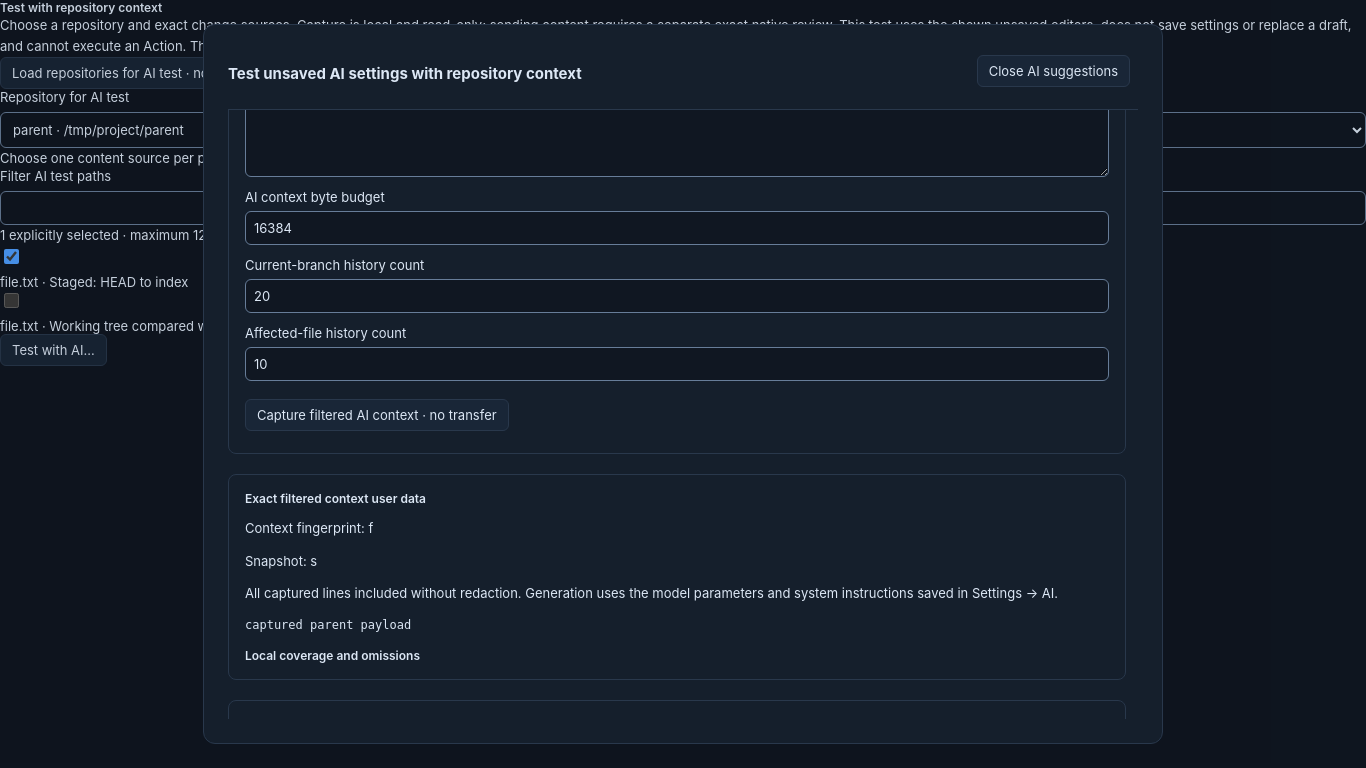
Test: requires explicit path sources, clears stale previews on repository change and retains choices on refresh failure
Earlier steps of the test are not shown.
(page scrolled)
Click the button "Close AI suggestions": (1053, 71) [977,55,1130,87]
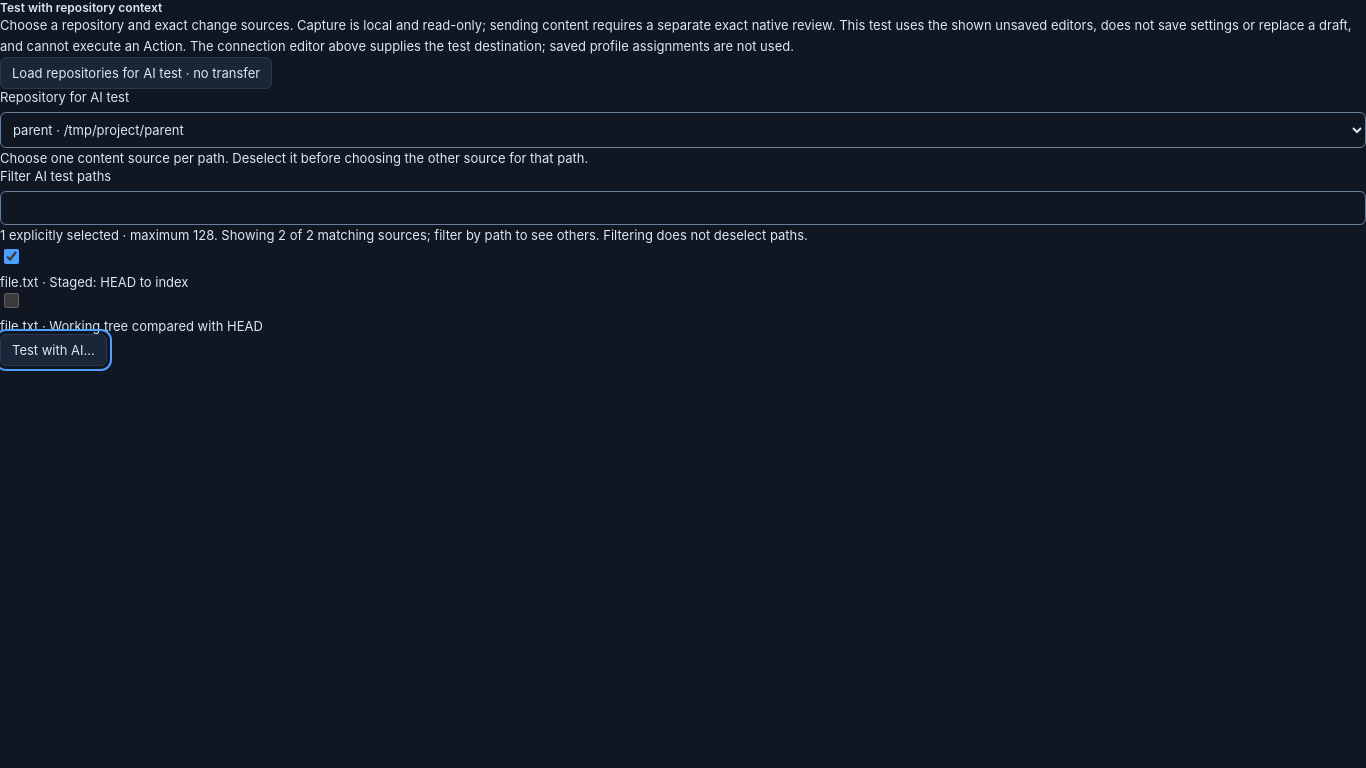
Select "child · /tmp/project/child" in the dropdown labelled "Repository for AI test": (683, 130) [0,112,1365,148]
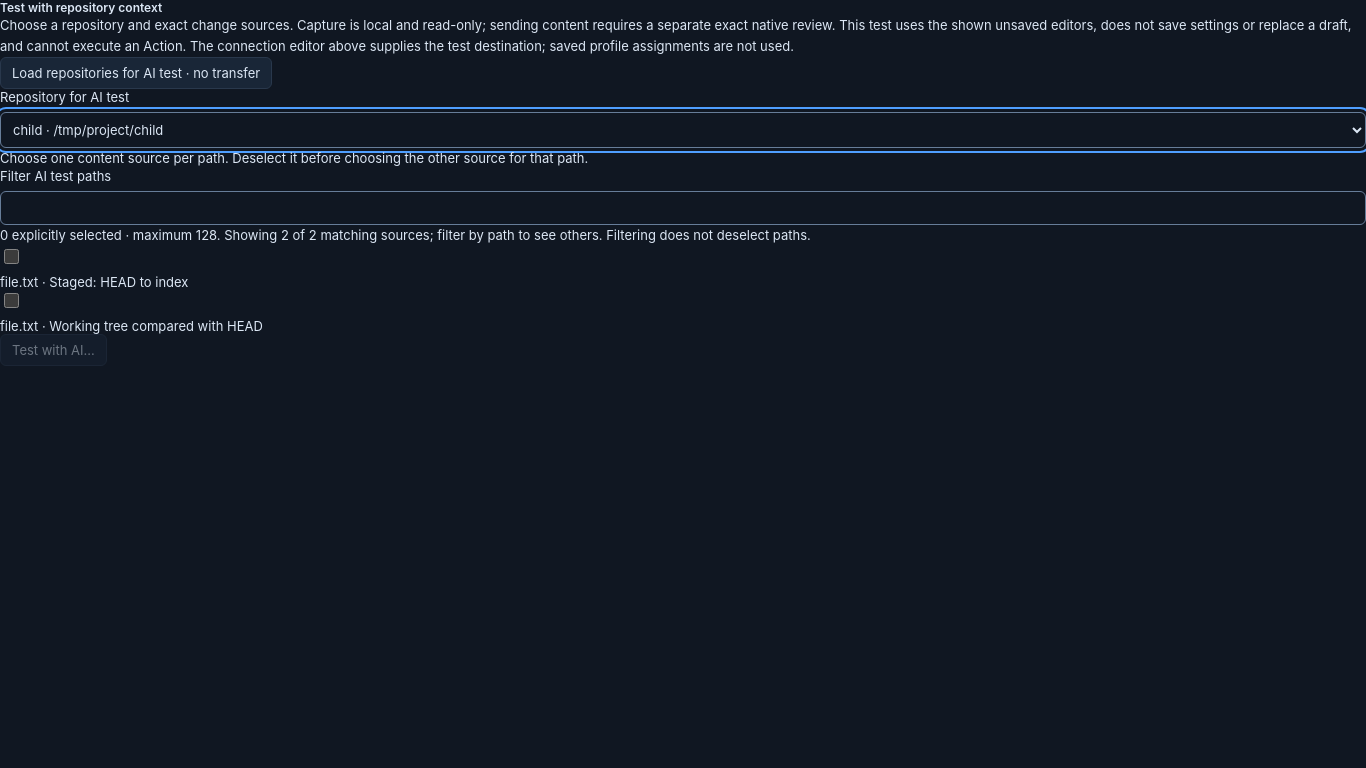
Expected: the button "Test with AI…" is disabled, [0,334,107,366]
Click the checkbox named "Include AI test file.txt from working_tree": (12, 301) [4,293,19,308]
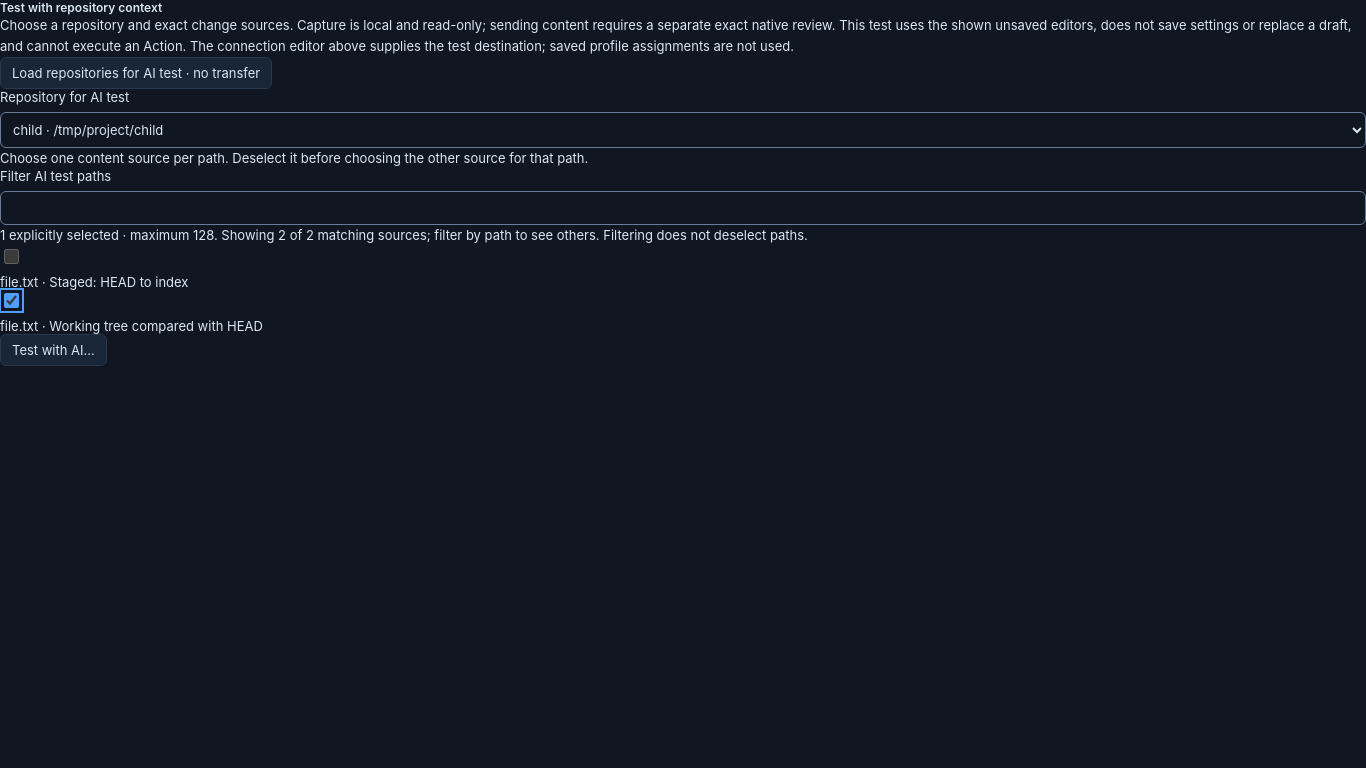
Click the button "Test with AI…": (53, 350) [0,334,107,366]
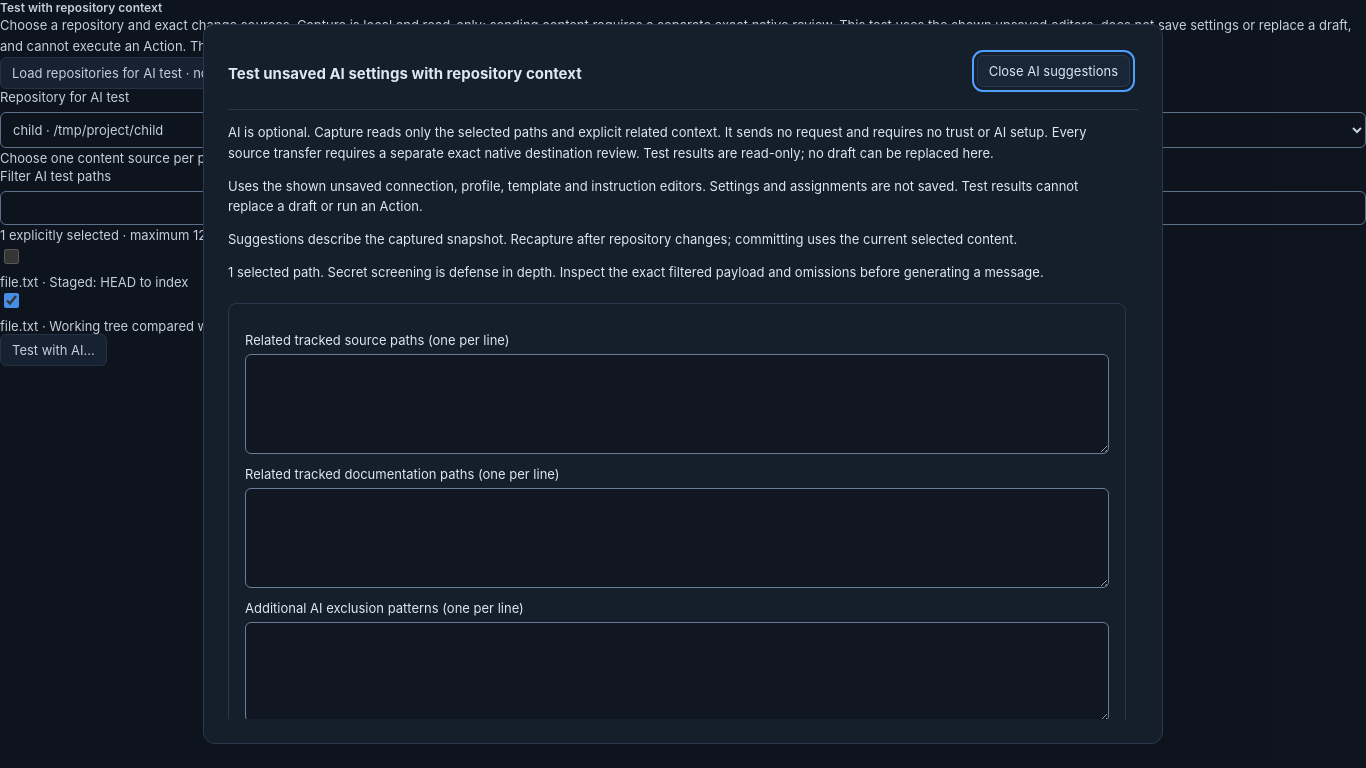
Expected: the text "captured parent payload" is not shown
Click the button "Close AI suggestions": (1053, 71) [977,55,1130,87]
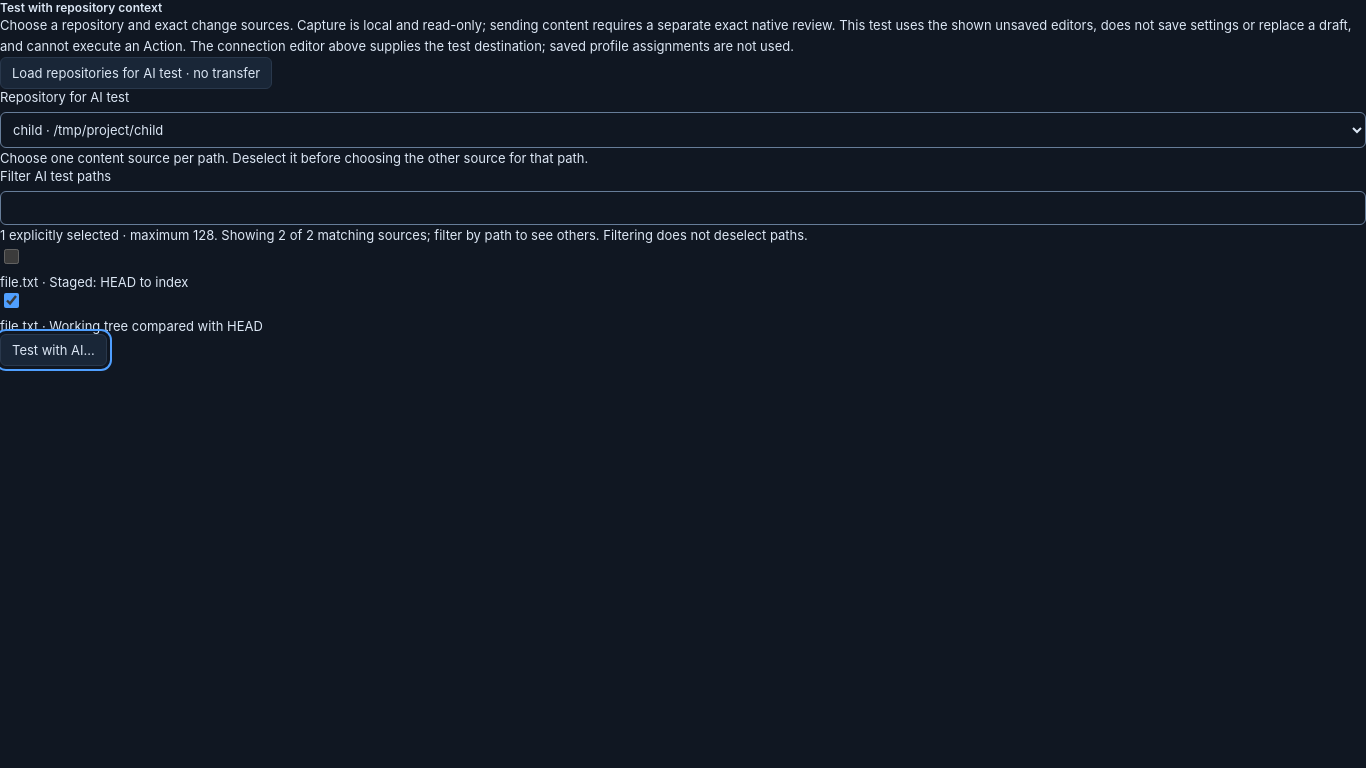
Click the button "Load repositories for AI test · no transfer": (136, 73) [0,57,272,89]
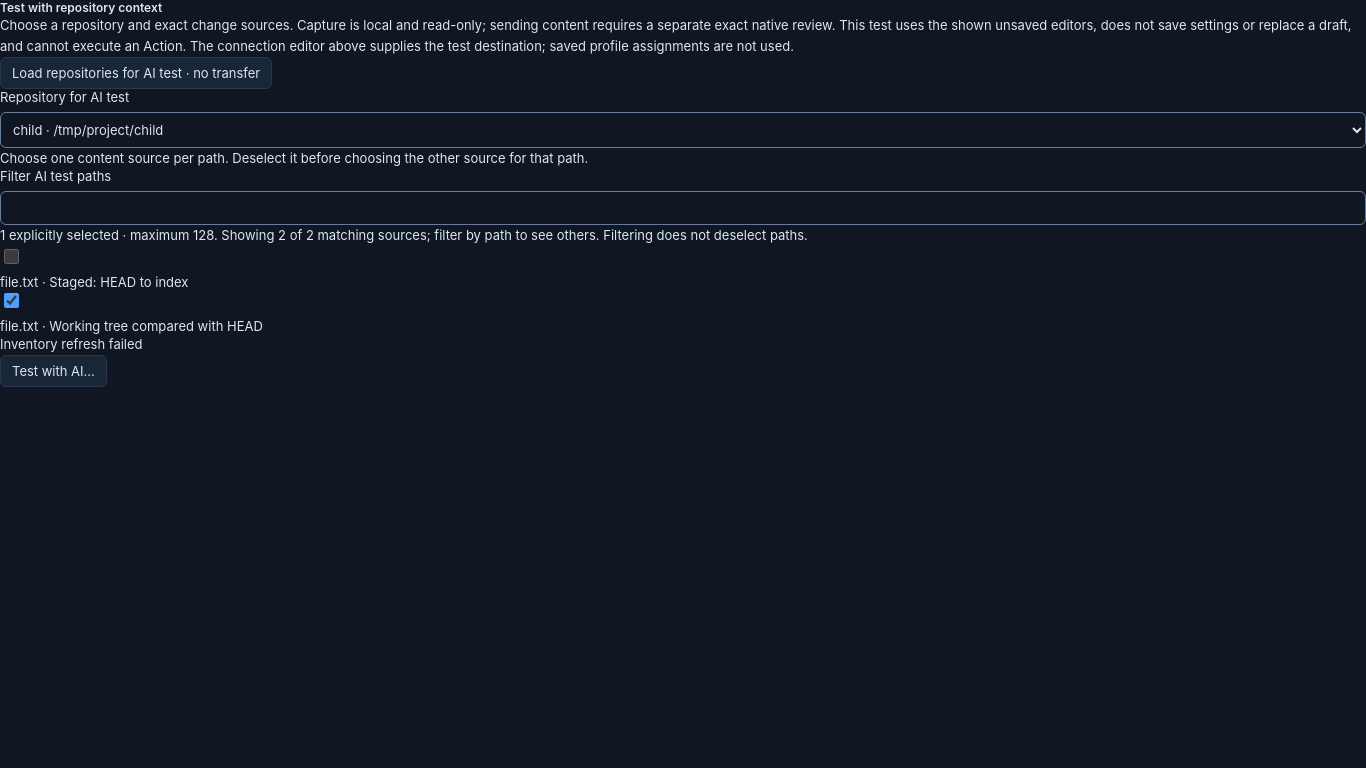
Expected: the checkbox named "Include AI test file.txt from working_tree" is checked, [4,293,19,308]
Expected: the button "Test with AI…" is enabled, [0,355,107,387]
Expected: the message reads "Inventory refresh failed", [0,336,143,352]
